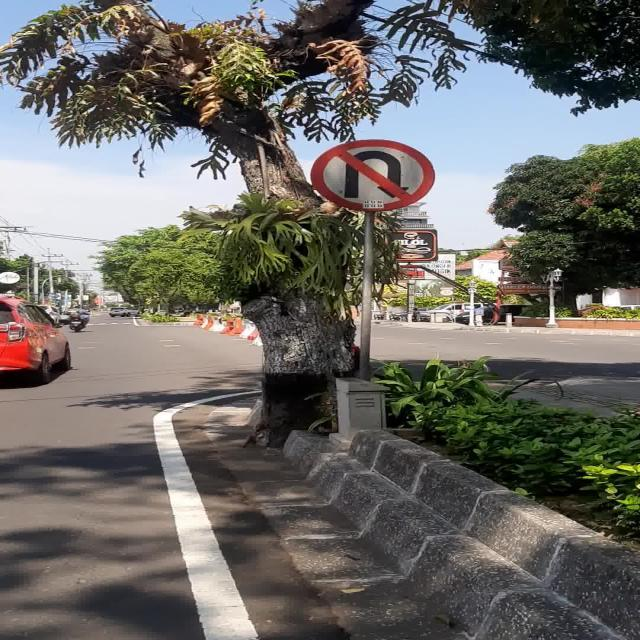Dilarang Putar Balik: (311, 139, 436, 211)
